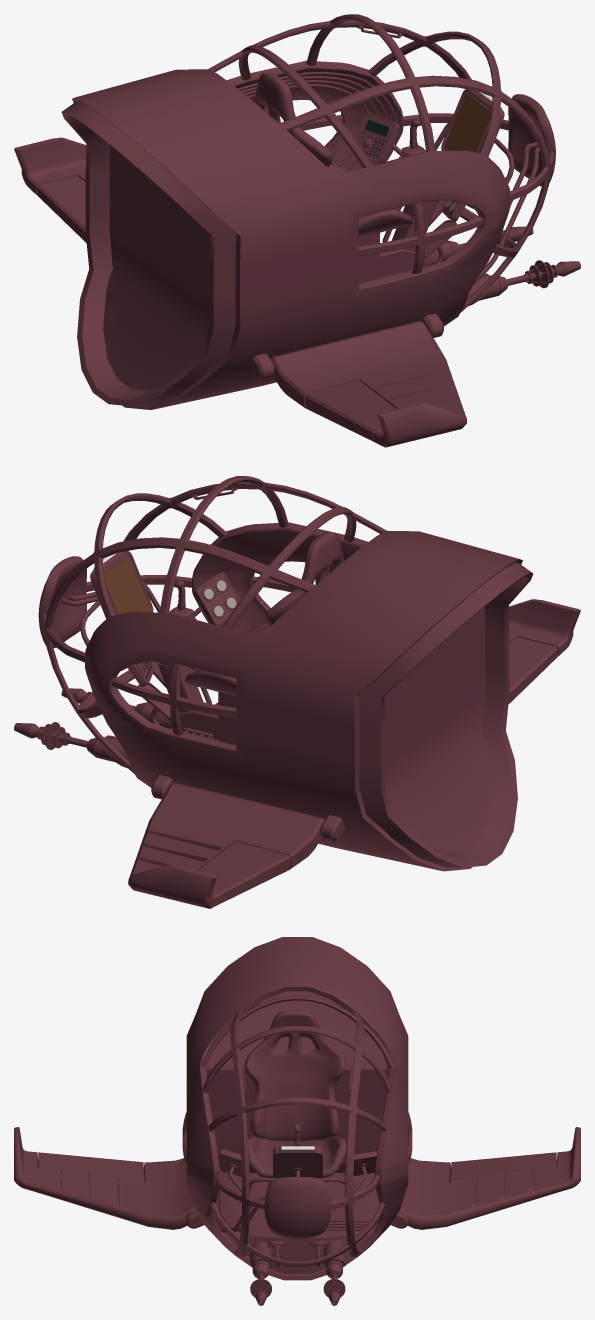
File: small_shuttle_new.FBX
The picture shows the model from 3 angles, top to bottom: view 1: azimuth 30°, elevation 25°; view 2: azimuth 150°, elevation 25°; view 3: azimuth 270°, elevation 25°; orthographic projection. The views are drawn at different scales.
Parts seen in each view (by area): view 1: small_ship001, right_wing001, left_wing001, main_display001, laser_gun002; view 2: small_ship001, left_wing001, right_wing001, main_display001, laser_gun001; view 3: small_ship001, left_wing001, right_wing001, laser_gun002, laser_gun001.
Part boxes in pixels (x1,y1,x2,y2): small_ship001: (61,14,555,409); right_wing001: (270,320,466,447); left_wing001: (14,137,86,242); main_display001: (444,94,491,152); laser_gun002: (479,260,580,300); small_ship001: (38,476,533,871); left_wing001: (128,782,324,908); right_wing001: (508,599,580,704); main_display001: (104,556,150,614); laser_gun001: (14,722,114,761); small_ship001: (182,937,412,1280); left_wing001: (400,1127,580,1229); right_wing001: (14,1127,194,1229); laser_gun002: (250,1260,271,1305); laser_gun001: (323,1260,345,1305).
Bounding box in the file's own units: 106 × 67.9 × 142.
